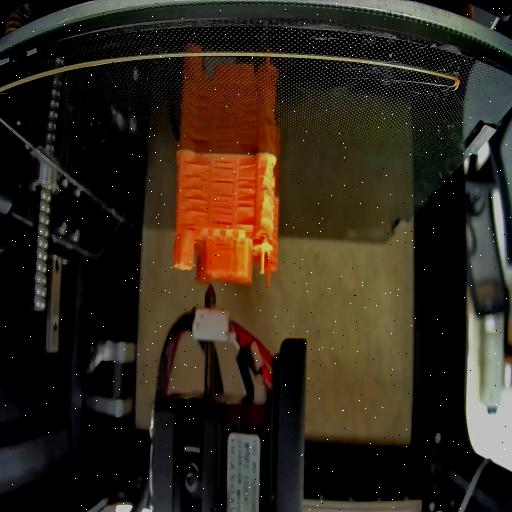cracks: (180, 164, 210, 214), (236, 161, 258, 209), (211, 194, 233, 228), (212, 160, 232, 188), (216, 243, 230, 255), (236, 218, 255, 226)
